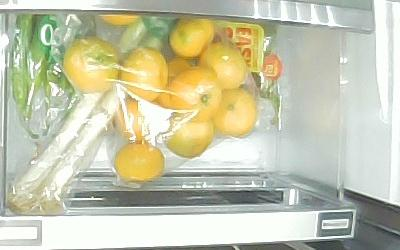tangerine_vinyl: (156, 65, 221, 121), (64, 36, 119, 92), (120, 46, 169, 102), (211, 88, 258, 138), (200, 41, 245, 90), (164, 119, 215, 159), (115, 142, 165, 182), (168, 16, 214, 58), (115, 98, 152, 143)
